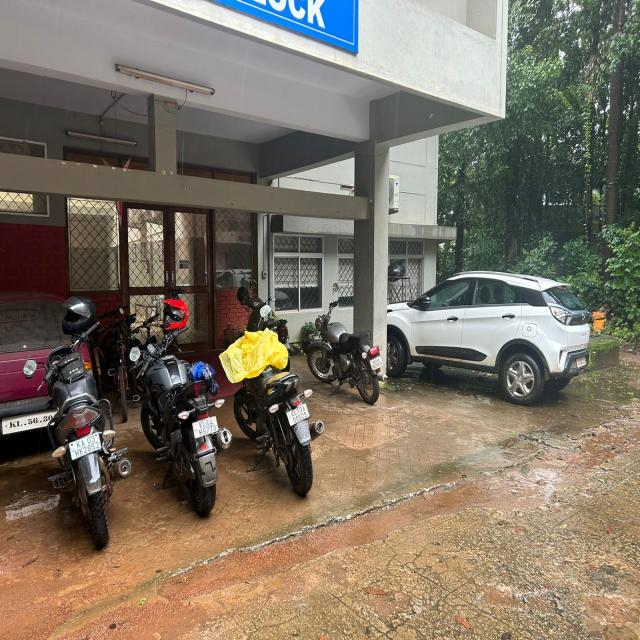car ahead at: (395, 264, 593, 406)
motorcycle ahead at: (26, 292, 128, 562), (115, 321, 230, 518), (234, 314, 324, 508)
pillar ahead at: (354, 139, 393, 393)
